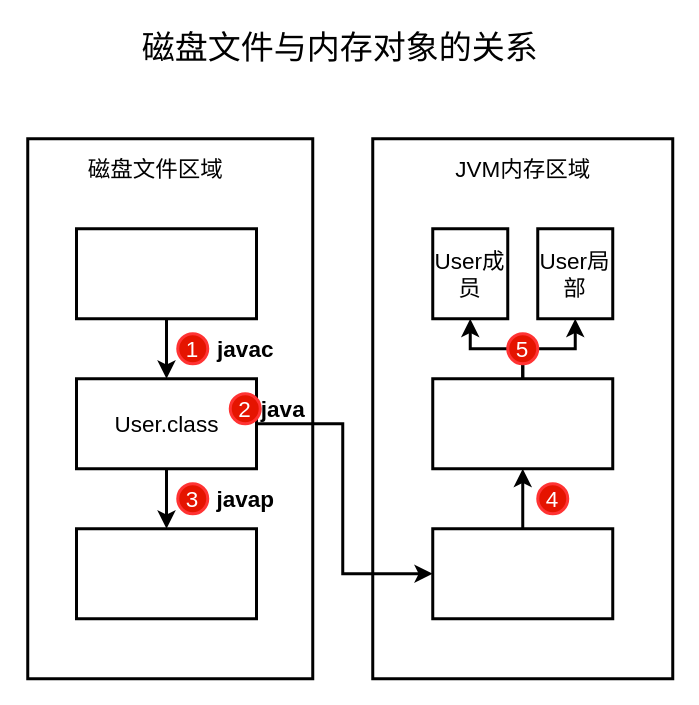
This 699x705 diagram has some shape labels left out. The shapes that lost their labels are listed below. From the top down, each one's centre as x and y in pixels, then its label:
At (165,273): "User.java".
At (522,423): "User对象".
At (165,573): "User.byte".
At (522,573): "class对象".
